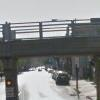Bridge: (4, 14, 91, 67)
